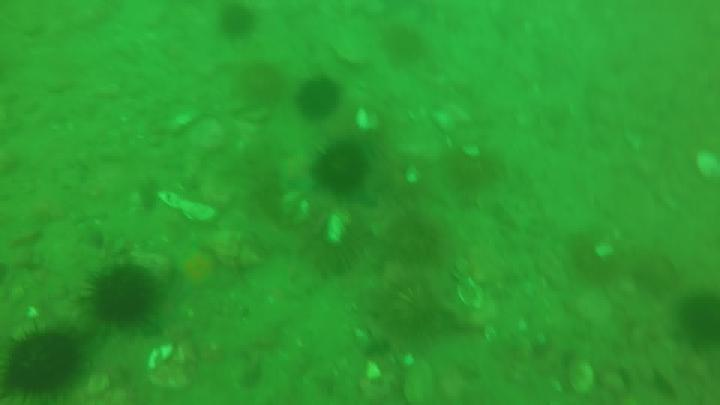echinus: (1, 324, 80, 394), (83, 265, 155, 331), (308, 205, 364, 277), (574, 226, 629, 290), (384, 209, 442, 269), (387, 280, 440, 341), (310, 145, 371, 193), (296, 73, 341, 121), (680, 293, 720, 347), (221, 6, 257, 39)
scallop: (459, 275, 485, 316), (567, 365, 595, 392), (696, 151, 717, 181), (433, 113, 459, 132), (463, 143, 479, 157), (406, 167, 419, 184)
starfish: (175, 241, 220, 296)
